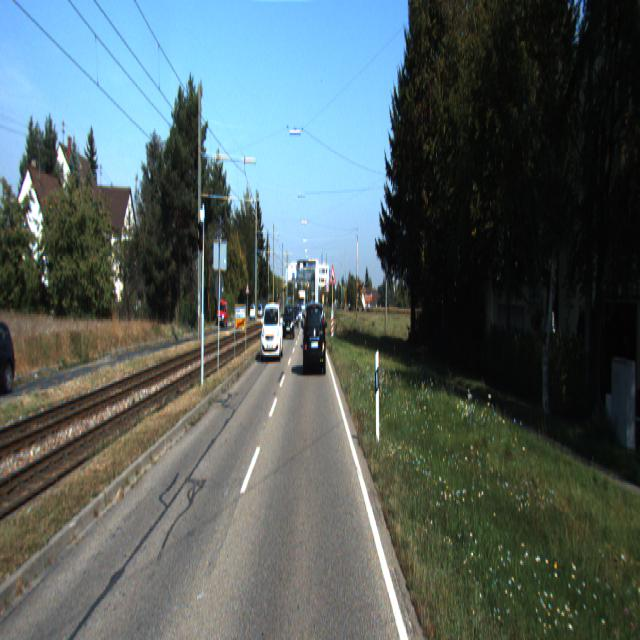Car: (0, 307, 21, 391), (304, 300, 326, 378), (260, 303, 284, 363), (283, 306, 295, 342)
